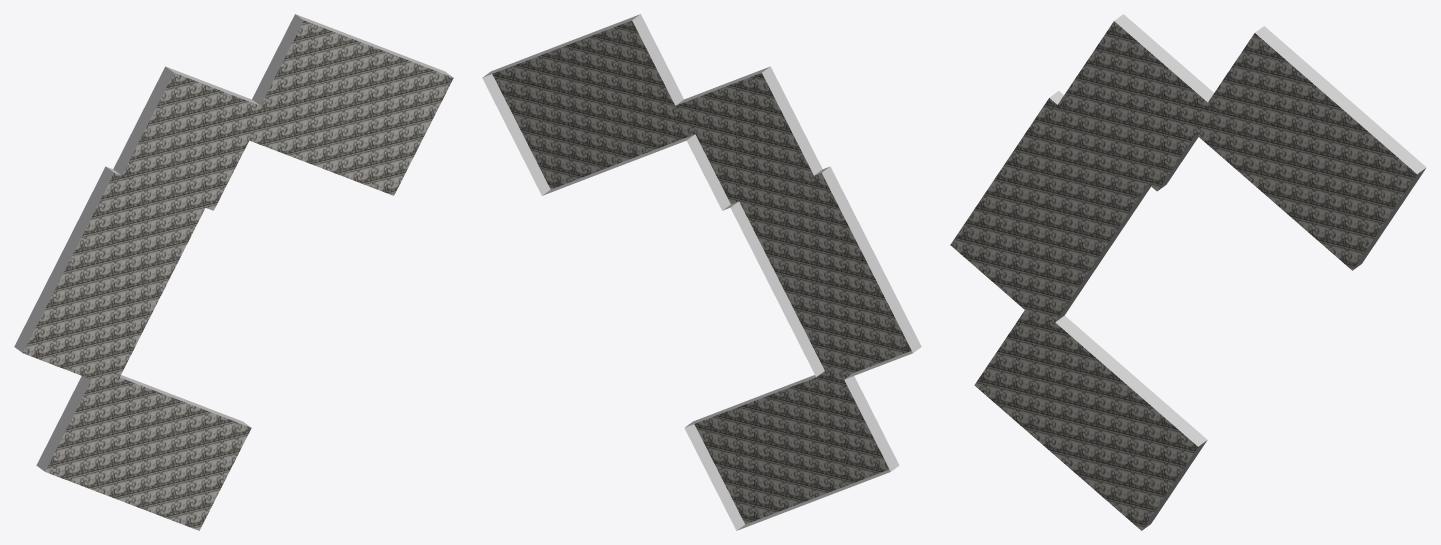
The model's file is geospecific_4.obj.
3 renders of one model, left to right at view 1: azimuth 30°, elevation 25°; view 2: azimuth 150°, elevation 25°; view 3: azimuth 330°, elevation 25°, orthographic. The views are drawn at different scales.
Parts seen in each view (by area): view 1: Building; view 2: Building; view 3: Building.
Boxes of the visible parts, x1,y1,x2,y2 form: Building: (14, 14, 453, 530); Building: (482, 14, 921, 530); Building: (950, 14, 1426, 530).
Bounding box in the file's own units: 85.17 × 91.63 × 3.
